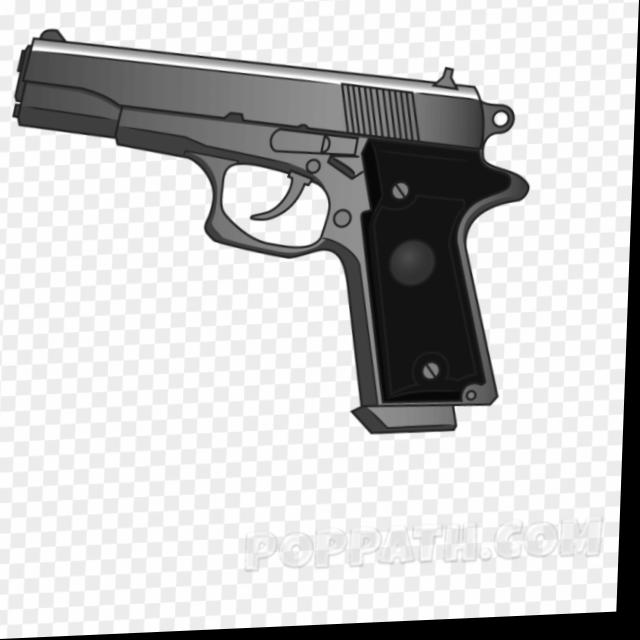handgun: (0, 12, 537, 453)
